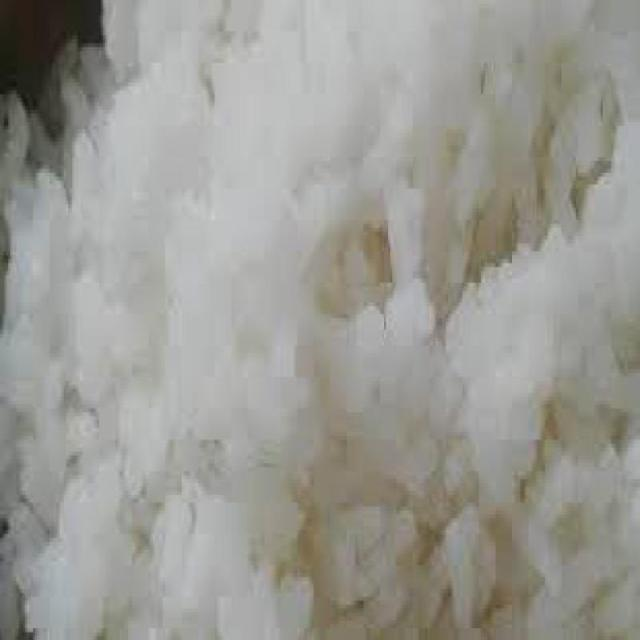nasi_putih: (2, 5, 638, 637)
